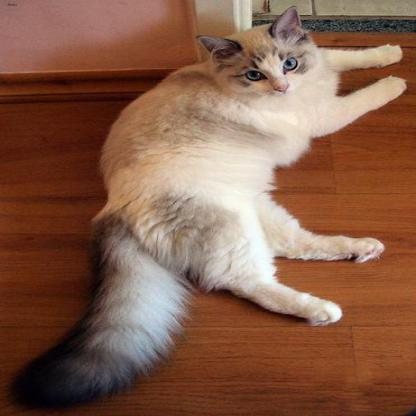cat: (13, 5, 405, 405)
